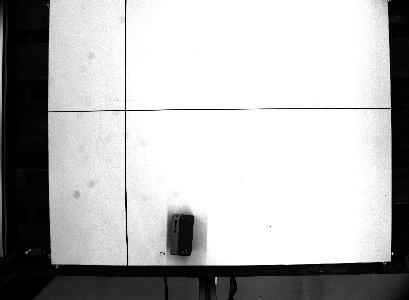b3: (167, 212, 196, 257)
